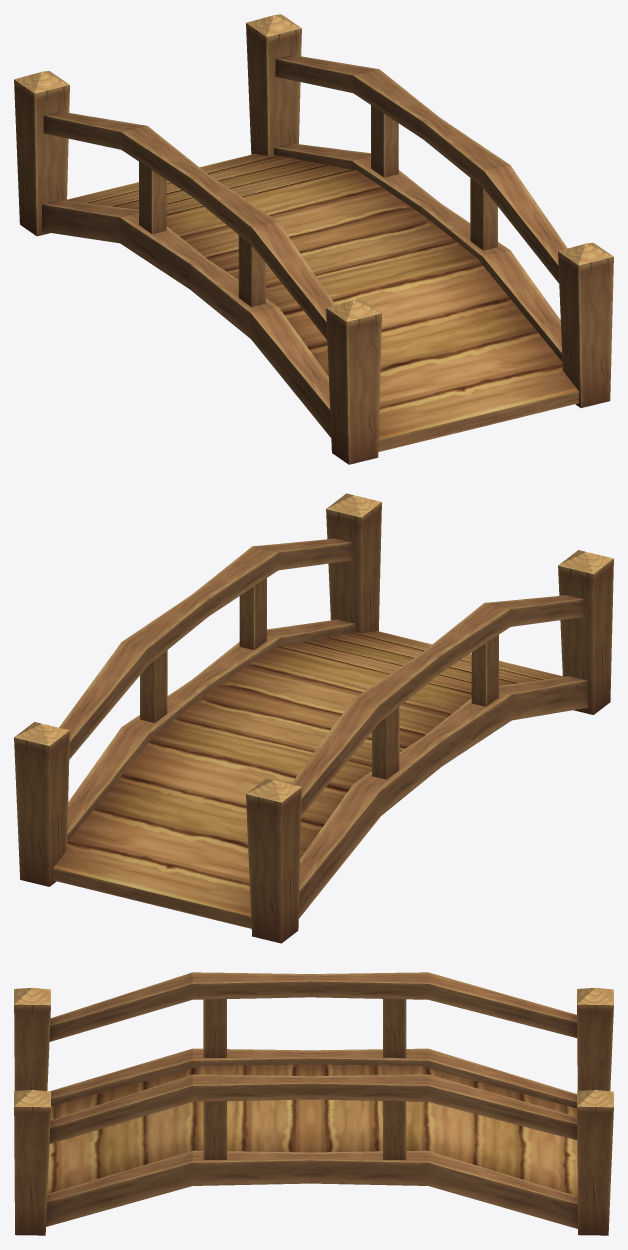
The model's file is bridge_02b.fbx.
3 views of the same model, one above another, from view 1: azimuth 30°, elevation 25°; view 2: azimuth 150°, elevation 25°; view 3: azimuth 270°, elevation 25° (orthographic). The views are drawn at different scales.
Parts seen in each view (by area): view 1: bridge_02bMesh; view 2: bridge_02bMesh; view 3: bridge_02bMesh.
Boxes of the visible parts, x1,y1,x2,y2 form: bridge_02bMesh: (14,14,613,464); bridge_02bMesh: (14,493,613,943); bridge_02bMesh: (14,972,613,1235).
Size of the model in its own units: 2.05 by 1.21 by 4.42.
